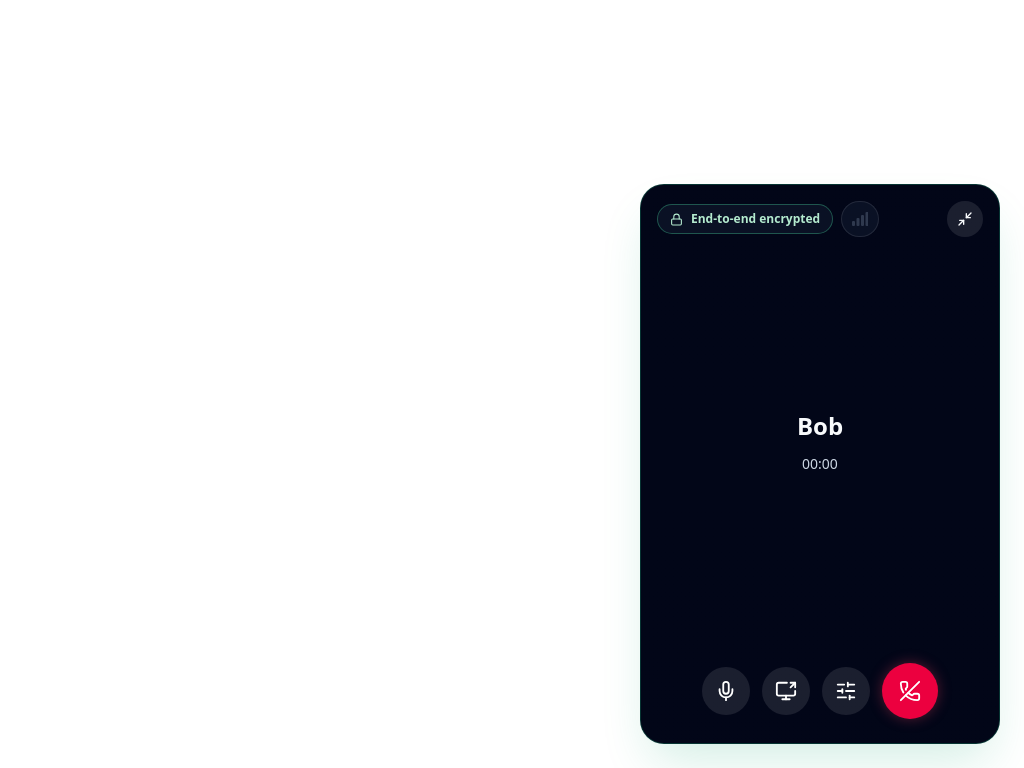
Test: the connection indicator › the numbers are dashes until they are measured
Click the button named "Call settings" at (846, 691), box [822,667,870,715]
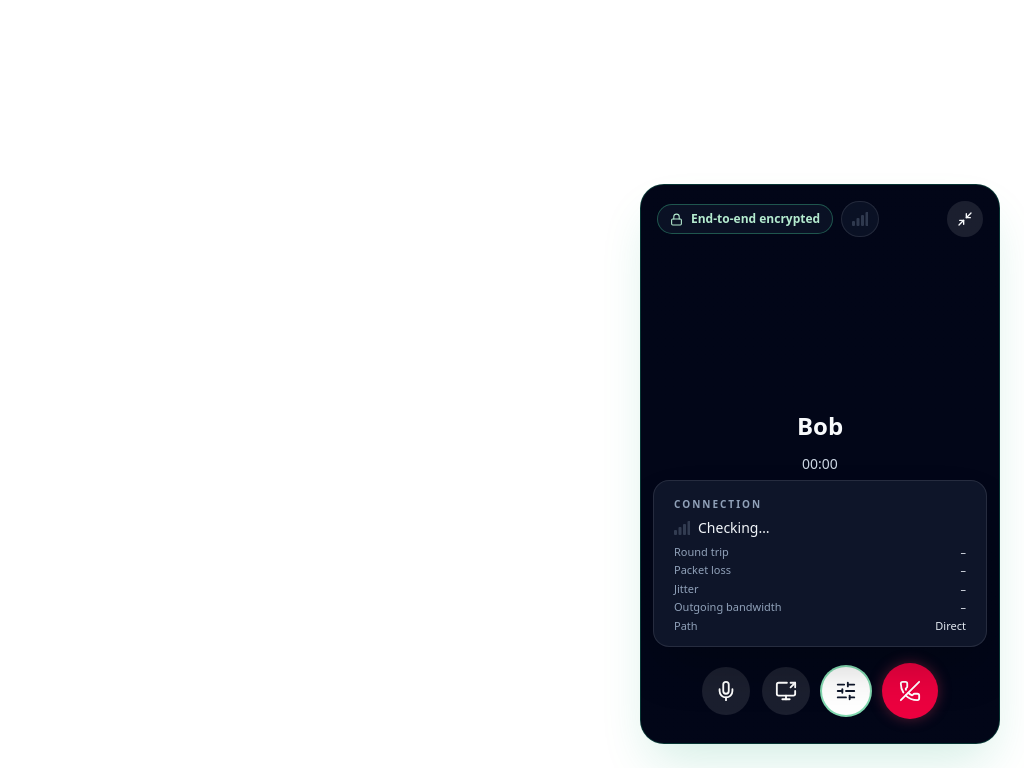
Result: the element "Connection Checking…" is shown at [698,518,770,536]
